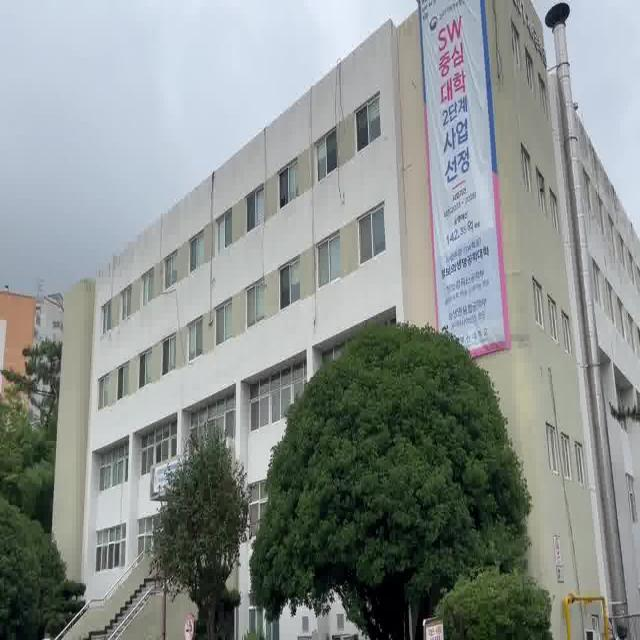building: (48, 37, 396, 340)
